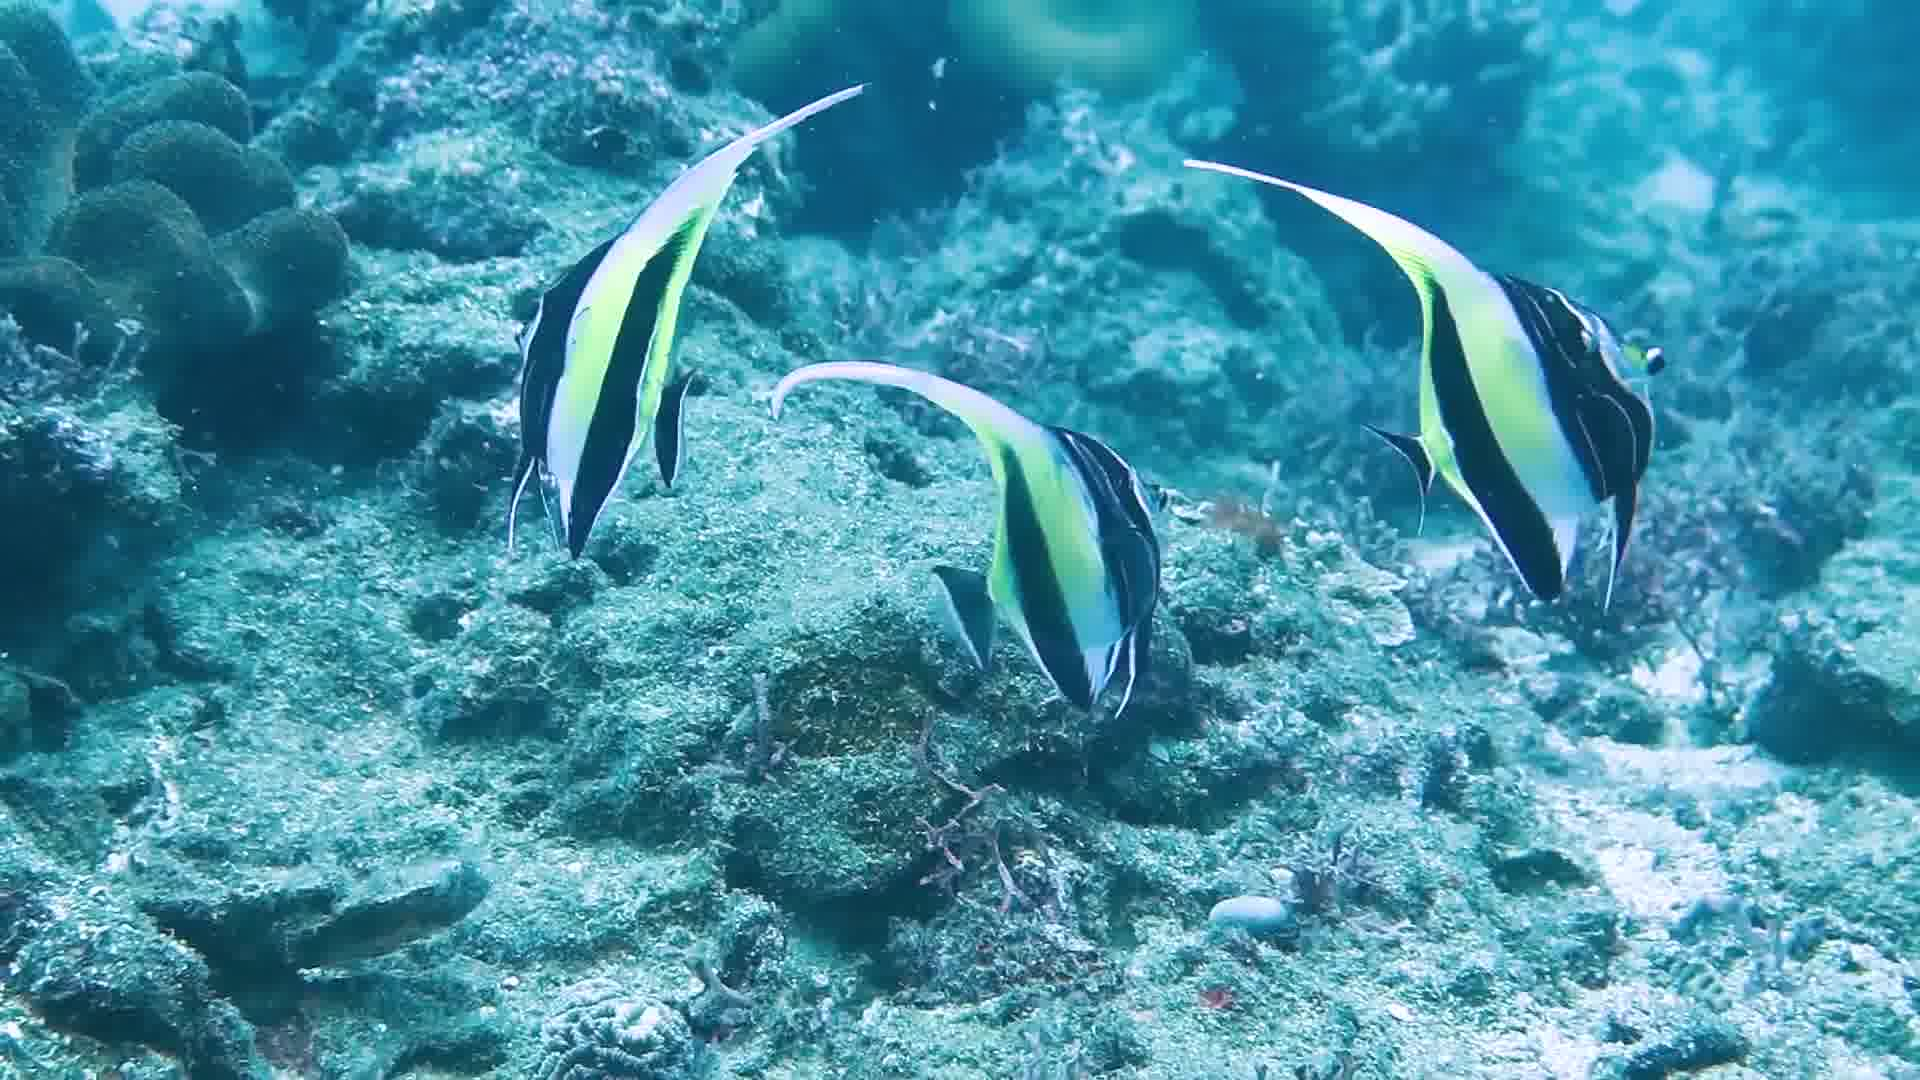Zanclus cornutus: (1350, 243, 1716, 621), (949, 394, 1184, 735), (509, 175, 705, 535)
